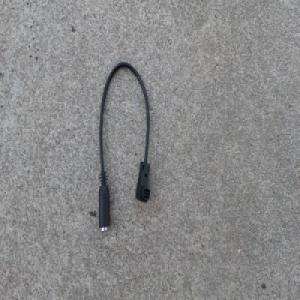Wire: (97, 60, 151, 234)
